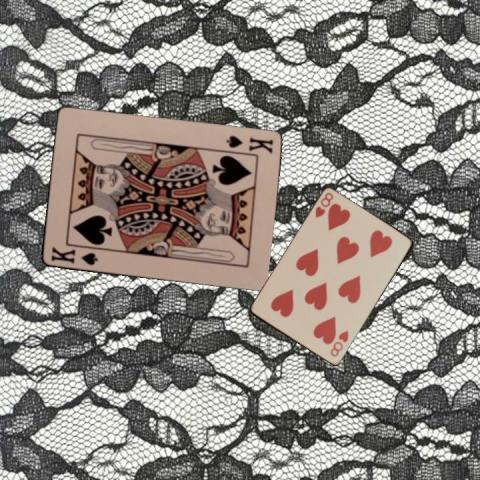8h: (327, 327, 350, 359), (312, 190, 335, 220)
Ks: (48, 244, 99, 267), (222, 132, 274, 154)
